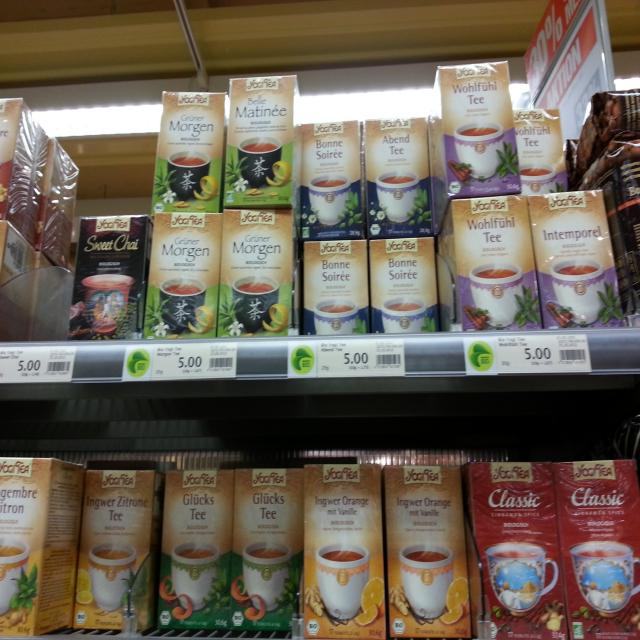Tea: (465, 462, 571, 640), (382, 467, 478, 639), (0, 460, 85, 640), (302, 463, 387, 640), (432, 198, 542, 334), (559, 459, 640, 640), (524, 186, 625, 326), (73, 467, 159, 631), (154, 467, 239, 632), (431, 58, 519, 212), (230, 467, 304, 632), (135, 216, 225, 340), (68, 217, 153, 343), (215, 213, 300, 331), (150, 91, 227, 216), (225, 75, 299, 204), (364, 116, 432, 237), (296, 120, 364, 234), (366, 237, 441, 339), (300, 237, 368, 334)
